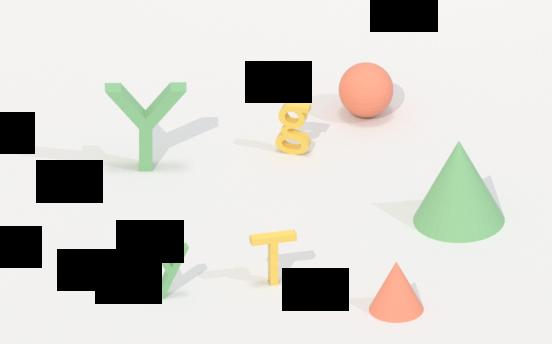Y: (148, 241, 196, 303)
Y-hoa: (103, 76, 192, 174)
cau: (336, 60, 399, 119)
g: (274, 97, 317, 157)
non: (410, 140, 508, 243), (364, 260, 431, 326)
t-hoa: (244, 226, 300, 287)
